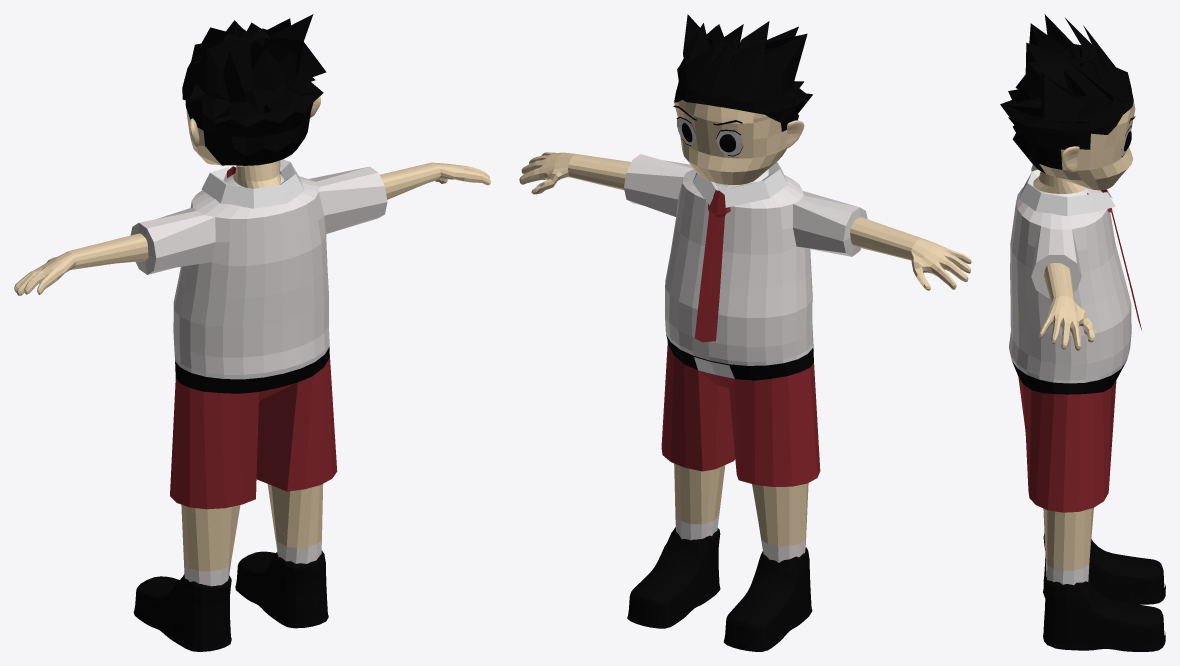
File: enemy2.fbx
The picture shows the model from 3 angles, left to right: view 1: azimuth 30°, elevation 25°; view 2: azimuth 150°, elevation 25°; view 3: azimuth 270°, elevation 25°; orthographic projection. The views are drawn at different scales.
Parts seen in each view (by area): view 1: Cylinder, Cube, Cube.001, Cube.002, Cube.003; view 2: Cylinder, Cube.001, Cube, Cube.002, Cube.003, Plane; view 3: Cylinder, Cube.001, Cube, Cube.003, Cube.005, Plane.
Boxes of the visible parts, x1,y1,x2,y2 form: Cylinder: [130, 14, 387, 586]; Cube: [133, 574, 231, 651]; Cube.001: [235, 550, 328, 628]; Cube.002: [14, 233, 148, 295]; Cube.003: [379, 162, 490, 199]; Cylinder: [624, 14, 867, 562]; Cube.001: [627, 527, 720, 628]; Cube: [723, 547, 812, 651]; Cube.002: [850, 217, 971, 290]; Cube.003: [519, 152, 631, 194]; Plane: [695, 190, 730, 342]; Cylinder: [1000, 14, 1135, 585]; Cube.001: [1043, 575, 1165, 651]; Cube: [1043, 533, 1165, 604]; Cube.003: [1039, 263, 1094, 350]; Cube.005: [1061, 146, 1079, 171]; Plane: [1087, 189, 1141, 330].
Size of the model in its own units: 337 by 418 by 108.
